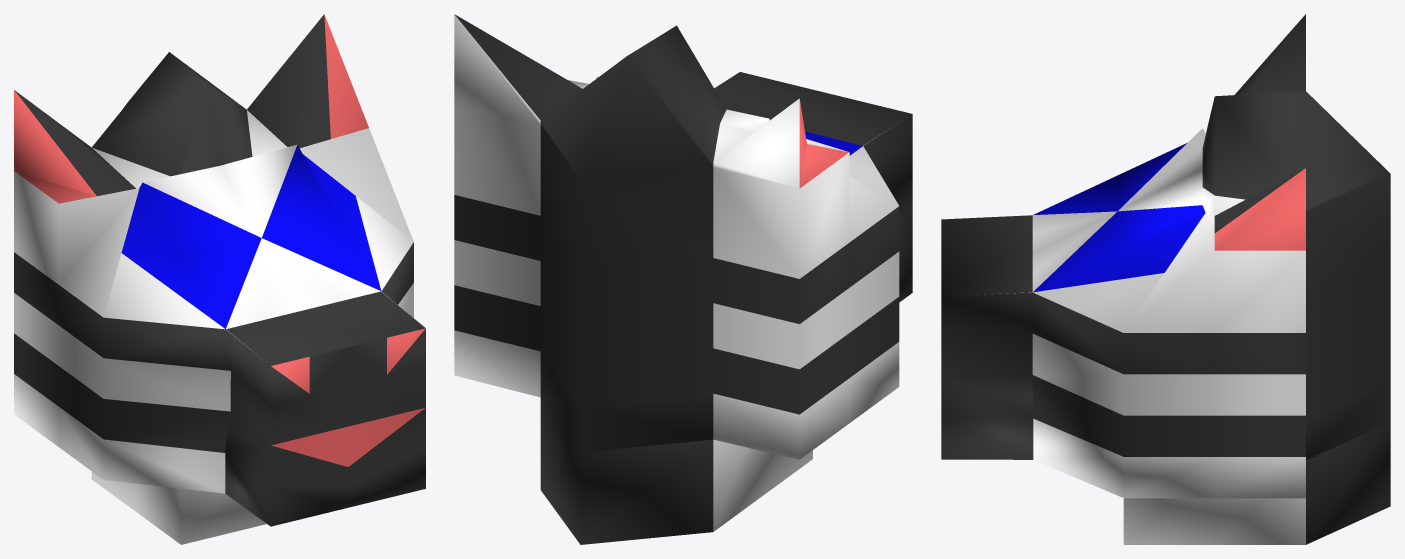
Rendered from zebra.fbx.
3 renders of one model, left to right at view 1: azimuth 30°, elevation 25°; view 2: azimuth 150°, elevation 25°; view 3: azimuth 270°, elevation 25°, orthographic. The views are drawn at different scales.
Parts seen in each view (by area): view 1: Cube; view 2: Cube; view 3: Cube.
Part boxes in pixels (x1=…): Cube: x1=14, y1=14, x2=425, y2=544; Cube: x1=454, y1=14, x2=912, y2=544; Cube: x1=941, y1=14, x2=1390, y2=544.
Size of the model in its own units: 1 by 1.26 by 1.23.
